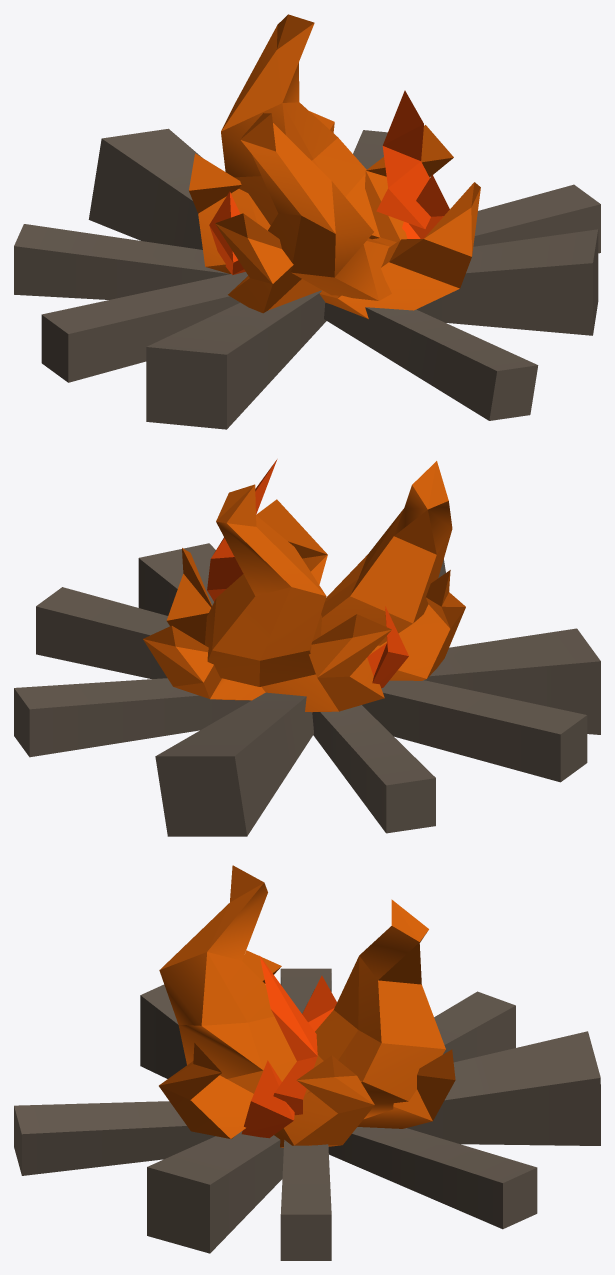
File: Campfire_02.fbx
The picture shows the model from 3 angles, top to bottom: view 1: azimuth 30°, elevation 25°; view 2: azimuth 150°, elevation 25°; view 3: azimuth 270°, elevation 25°; orthographic projection. The views are drawn at different scales.
Parts seen in each view (by area): view 1: Campfire_02; view 2: Campfire_02; view 3: Campfire_02.
Part boxes in pixels (<box>): Campfire_02: <box>14,14,600,429</box>; Campfire_02: <box>14,459,600,836</box>; Campfire_02: <box>14,865,600,1260</box>.
Bounding box in the file's own units: 21.76 × 10.59 × 21.93.
